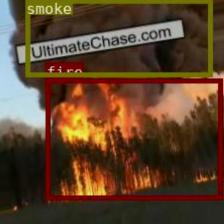fire: (45, 78, 222, 200)
smoke: (25, 0, 212, 76)
